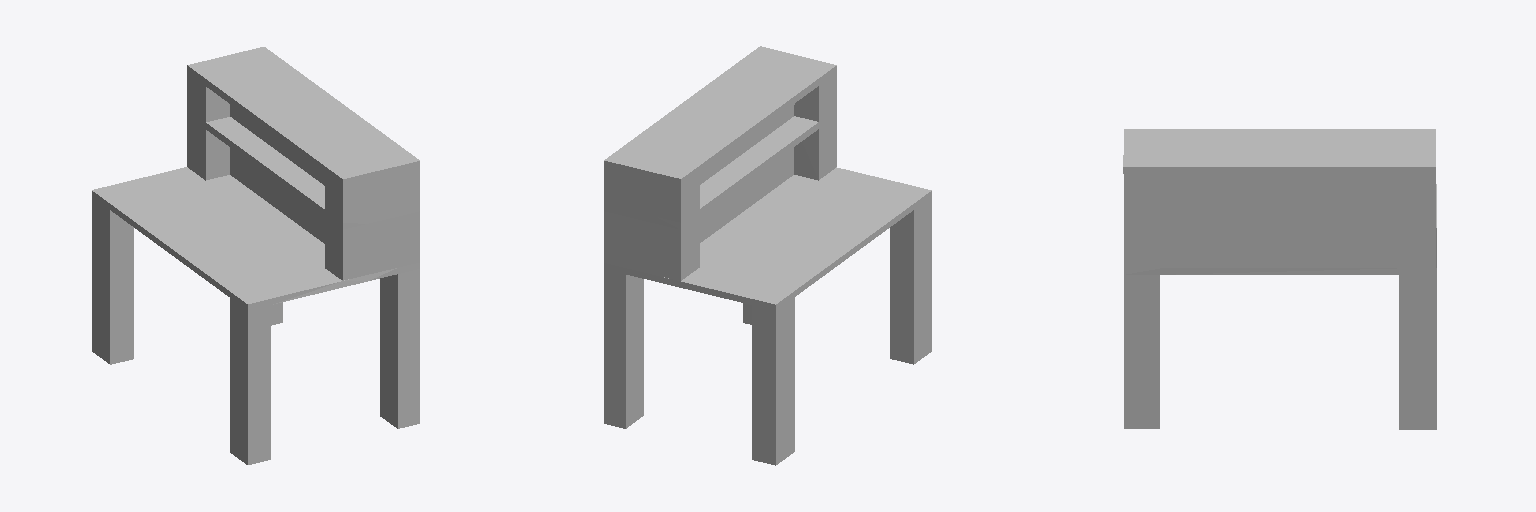
File: desk.obj
The picture shows the model from 3 angles: view 1: azimuth 30°, elevation 25°; view 2: azimuth 150°, elevation 25°; view 3: azimuth 270°, elevation 25°; orthographic projection.
Parts seen in each view (by area): view 1: pCube1; view 2: pCube1; view 3: pCube1.
Part boxes in pixels (bbox=[...]): pCube1: bbox=[92, 47, 419, 464]; pCube1: bbox=[604, 46, 931, 465]; pCube1: bbox=[1123, 129, 1436, 429].
Bounding box in the file's own units: 10.59 × 15.46 × 16.65.